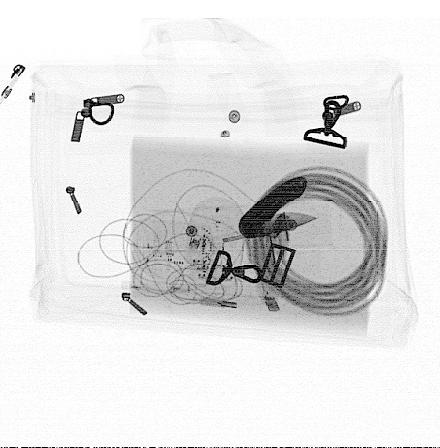Knife: (237, 175, 320, 240)
